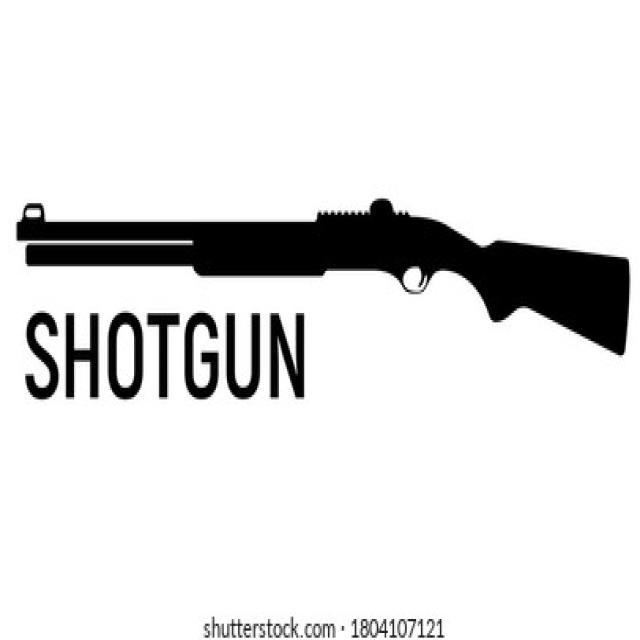Weapon: (17, 199, 629, 350)
